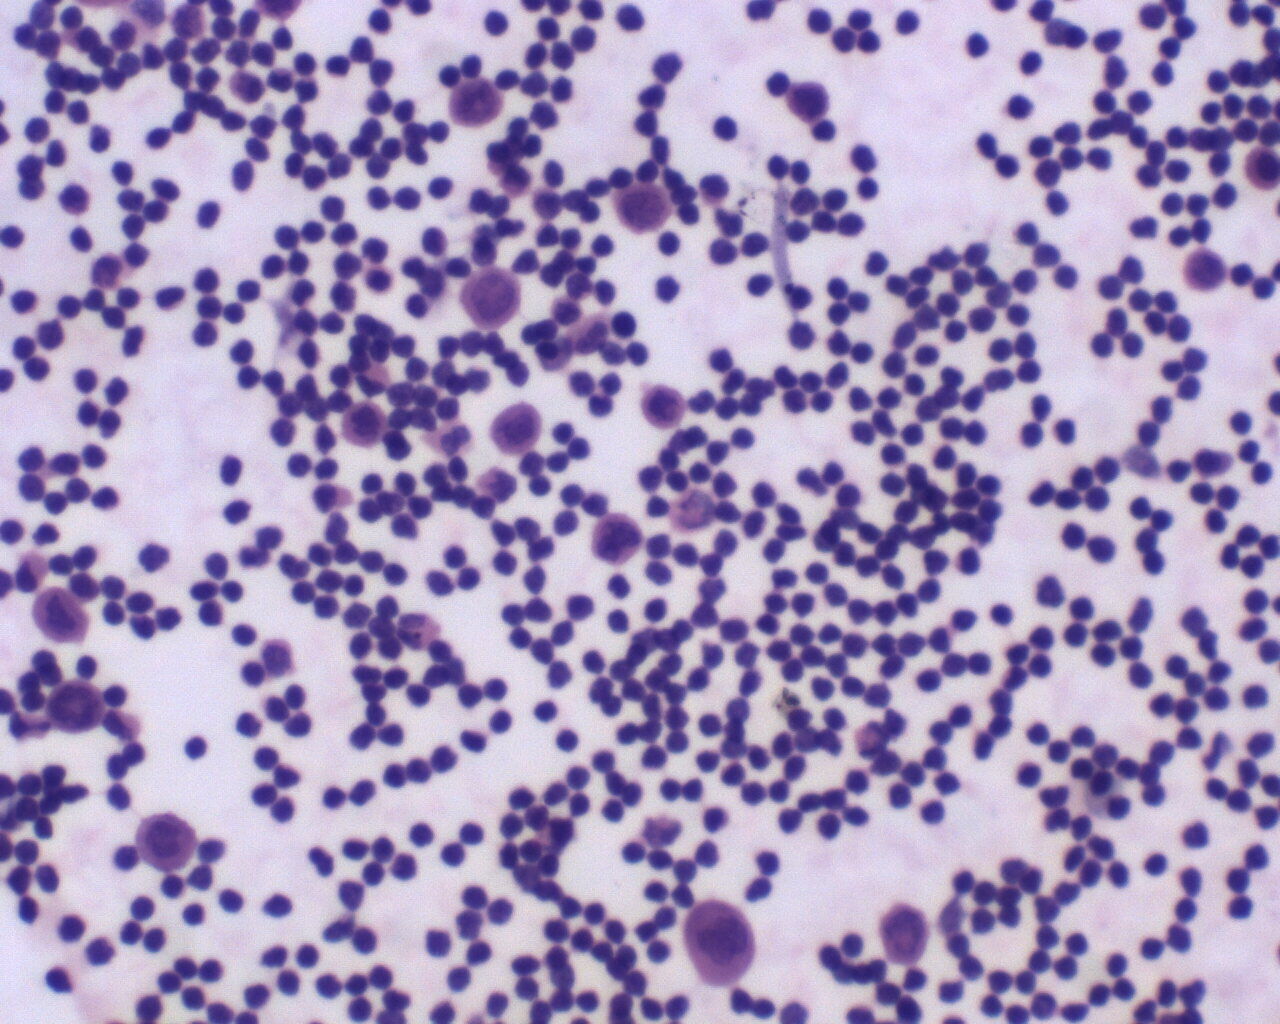ab: (685, 895, 765, 995), (29, 582, 93, 652), (872, 899, 934, 968), (459, 266, 523, 330), (45, 676, 107, 742), (479, 402, 546, 459), (609, 182, 675, 238), (587, 509, 649, 568), (445, 74, 507, 130), (1176, 245, 1230, 297), (340, 399, 387, 451), (787, 77, 835, 127), (639, 383, 686, 429)
lymph: (1013, 757, 1051, 793), (363, 4, 399, 40), (216, 452, 250, 491), (80, 441, 117, 475), (772, 806, 809, 840), (993, 149, 1026, 187), (549, 724, 587, 757), (610, 306, 644, 343), (215, 883, 250, 917), (54, 908, 88, 944), (315, 191, 351, 224), (711, 111, 743, 147), (855, 171, 886, 209), (1135, 933, 1172, 964), (704, 346, 743, 376), (918, 794, 952, 829), (1238, 582, 1271, 618), (745, 269, 777, 303), (1068, 591, 1103, 623), (965, 29, 997, 65), (435, 840, 468, 872), (191, 320, 224, 353), (1058, 518, 1090, 553), (1223, 408, 1259, 437), (1054, 261, 1087, 294), (1120, 658, 1153, 691), (892, 7, 925, 40), (8, 283, 41, 316), (70, 365, 103, 396), (189, 263, 223, 295), (1004, 300, 1035, 333), (233, 360, 263, 395), (695, 708, 729, 739), (877, 439, 911, 469), (481, 6, 513, 38), (229, 619, 264, 647), (242, 977, 273, 1009), (1017, 418, 1047, 450), (111, 157, 140, 190), (319, 783, 347, 817), (1142, 845, 1169, 881), (197, 954, 227, 986), (182, 728, 209, 763), (253, 743, 283, 773), (985, 599, 1017, 627), (1119, 330, 1150, 357), (487, 707, 516, 736), (129, 892, 159, 920), (850, 336, 875, 369)
meso: (129, 807, 201, 874)
